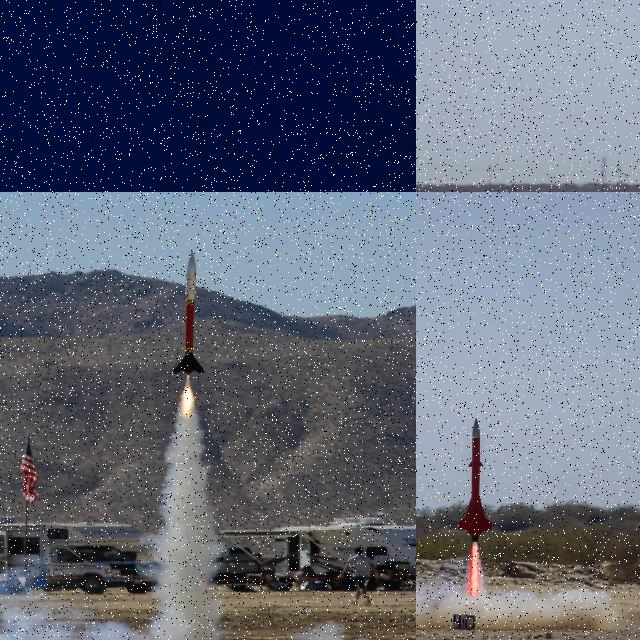Rocket: (458, 418, 492, 542), (172, 249, 205, 376)
